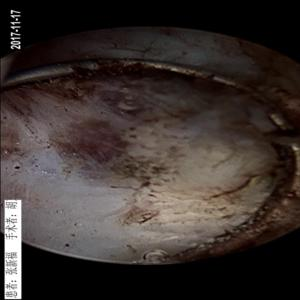film: (33, 86, 187, 211)
